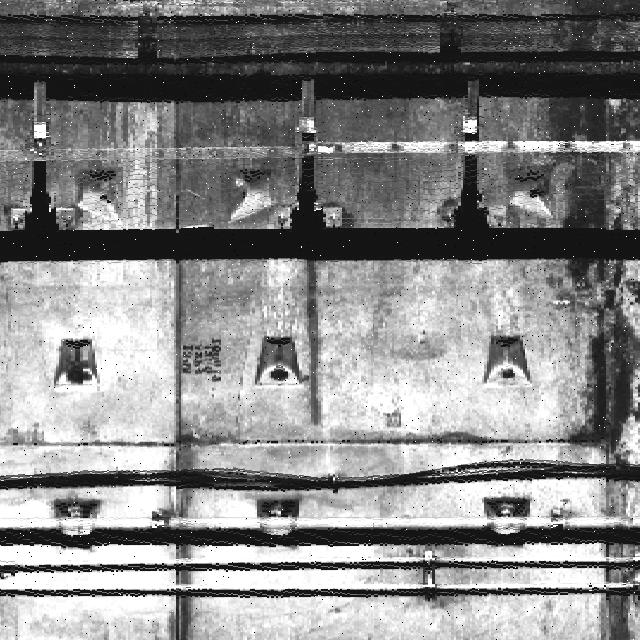leakage: (568, 260, 639, 467), (556, 97, 639, 231), (154, 421, 201, 640), (593, 486, 639, 639)
